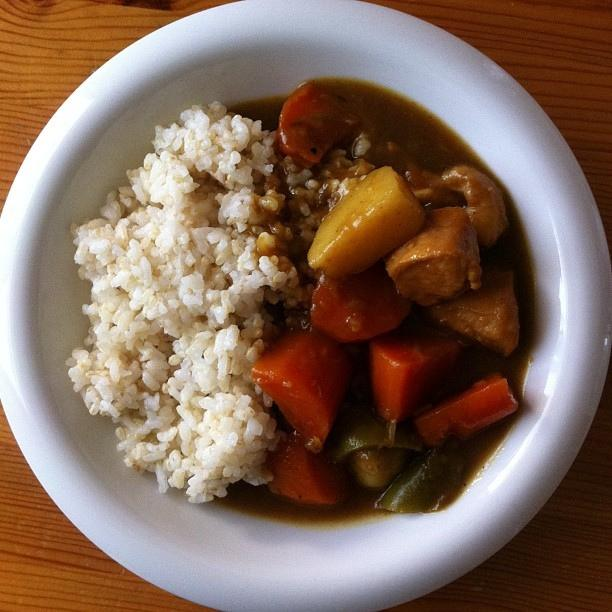carrot: (252, 326, 356, 446), (369, 324, 466, 422), (310, 260, 414, 342), (414, 370, 518, 447), (275, 82, 360, 168), (262, 431, 348, 505)
green bean: (378, 422, 503, 513), (326, 403, 427, 463)
potato: (250, 327, 356, 454), (307, 166, 426, 277), (423, 262, 523, 358), (368, 325, 460, 422), (268, 434, 348, 507), (344, 449, 411, 494)
